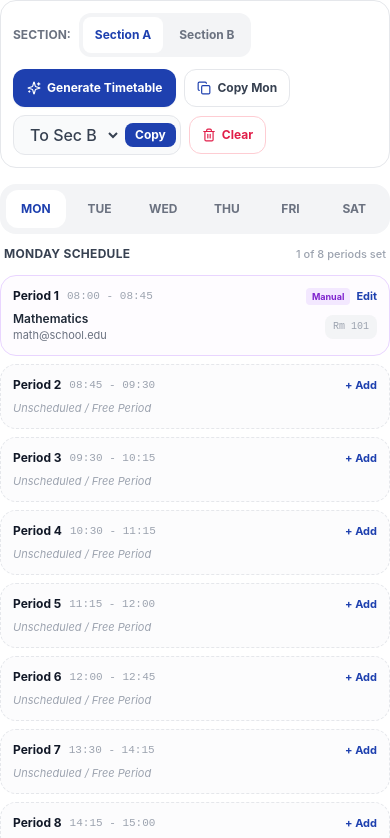
it: Milestone 3 Challenger 2: Mobile Reflow, Click Budget & UI Invariants › 2. Mobile Day Tabs Navigation & Period Card Stack › should switch active day tab and filter period card stack to that day
Check: the text "MONDAY Schedule" is shown, box [4,246,130,262]
# Click TUE tab
Click the button "TUE".
click(100, 209)  # box [70,190,129,228]
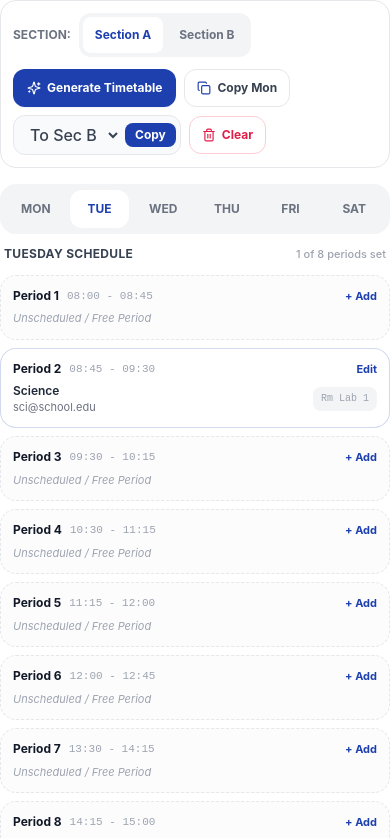
Check: the text "TUESDAY Schedule" is shown, box [4,246,133,262]
